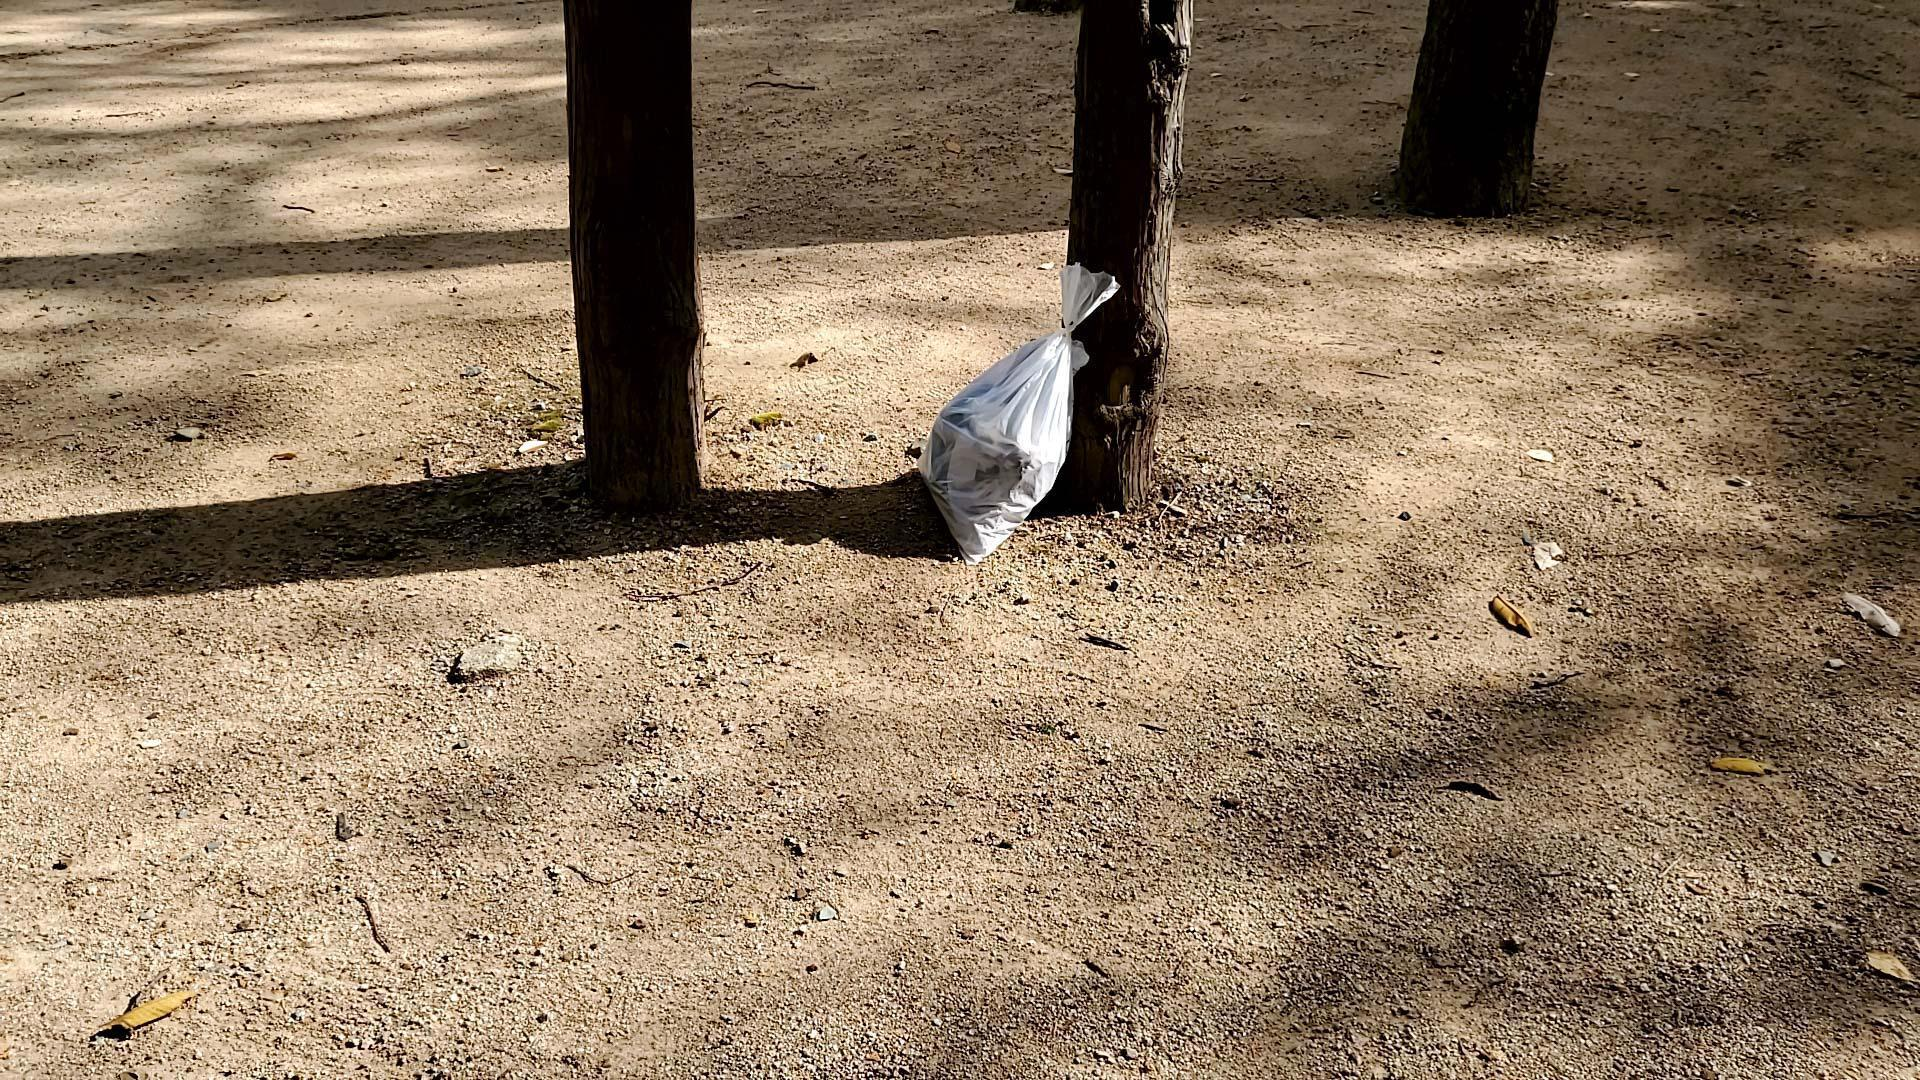white_bag: (899, 256, 1127, 574)
